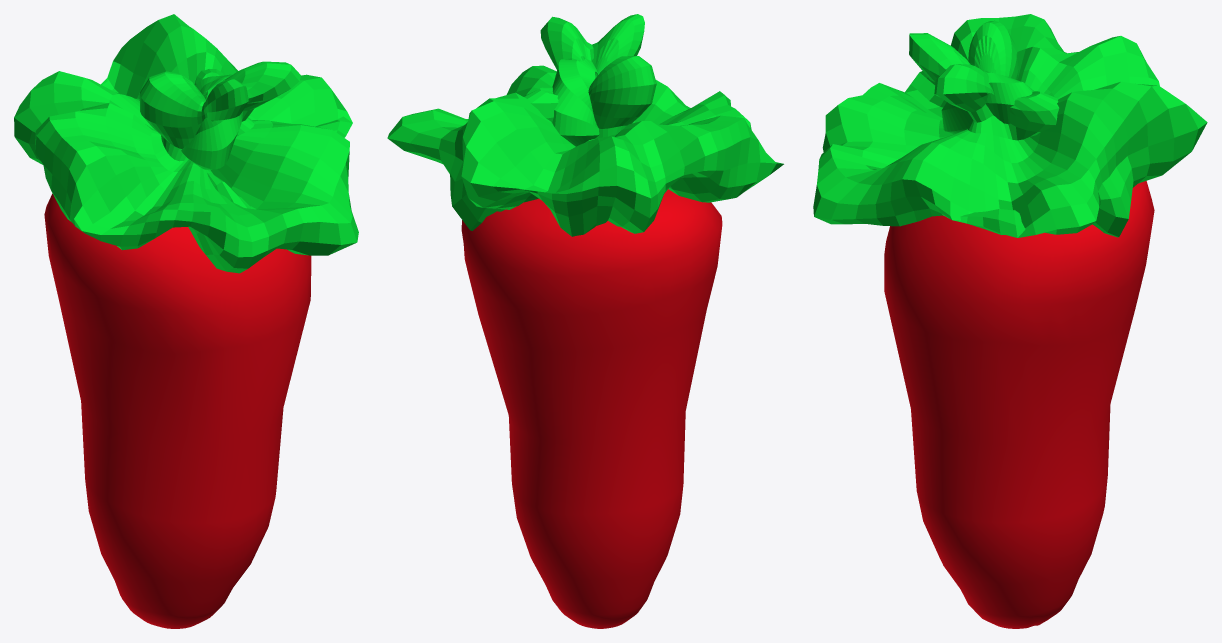
File: SpeedUp.fbx
3 renders of one model, left to right at view 1: azimuth 30°, elevation 25°; view 2: azimuth 150°, elevation 25°; view 3: azimuth 270°, elevation 25°, orthographic. The views are drawn at different scales.
Parts seen in each view (by area): view 1: Sphere, Sphere.001; view 2: Sphere, Sphere.001; view 3: Sphere, Sphere.001.
Part boxes in pixels (x1,y1,x2,y2): Sphere: (44,193,311,628); Sphere.001: (14,14,358,273); Sphere: (461,189,722,628); Sphere.001: (387,14,783,236); Sphere: (884,181,1154,628); Sphere.001: (813,14,1207,237).
Bounding box in the file's own units: 216 × 367 × 220.
